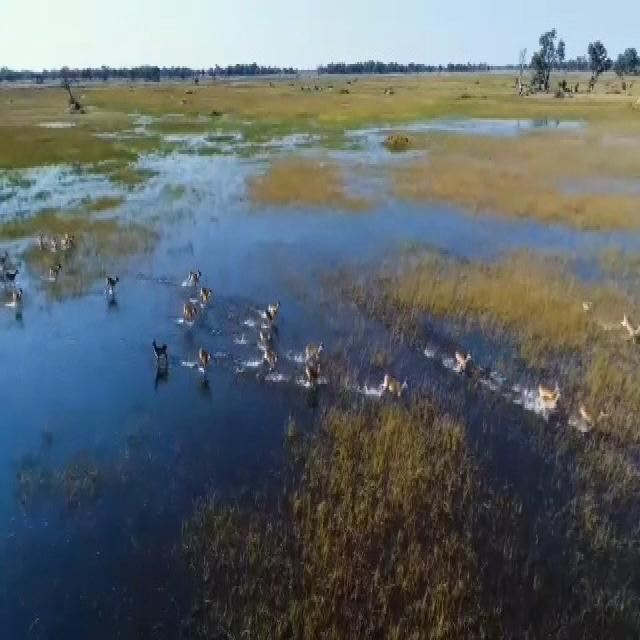Deer: (147, 326, 177, 374), (40, 219, 78, 256), (474, 356, 498, 391), (1, 249, 22, 288), (44, 213, 61, 258), (105, 273, 126, 307), (196, 341, 215, 378), (458, 344, 478, 378), (385, 373, 410, 400), (264, 349, 282, 383), (260, 303, 284, 326), (303, 342, 325, 367), (50, 256, 67, 288), (199, 289, 216, 313), (259, 327, 277, 349), (190, 265, 203, 294), (184, 304, 201, 322), (13, 297, 24, 310)
